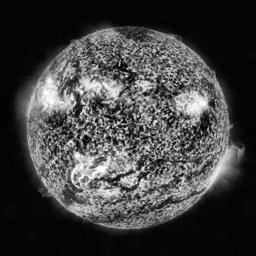solar flares: (75, 152, 107, 186), (176, 96, 208, 118), (42, 80, 59, 114), (77, 77, 99, 98), (102, 82, 122, 104)
sunspots: (117, 26, 147, 43), (108, 61, 133, 81), (48, 119, 68, 133), (77, 131, 94, 147), (200, 116, 211, 137), (72, 101, 83, 118)
